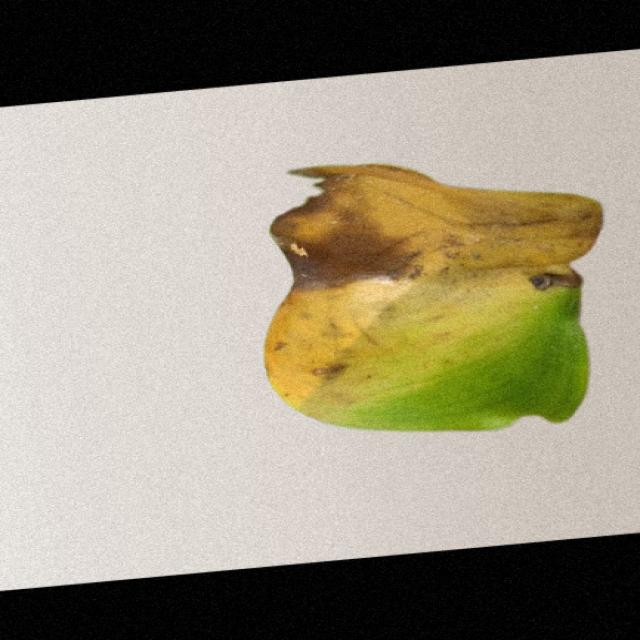daun berpenyakit kuning: (265, 165, 601, 431)
